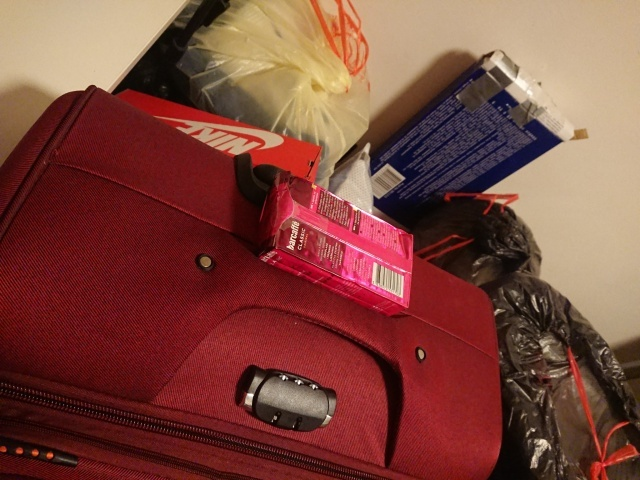Barcaffe Classic Original 225g: (250, 166, 416, 321)
